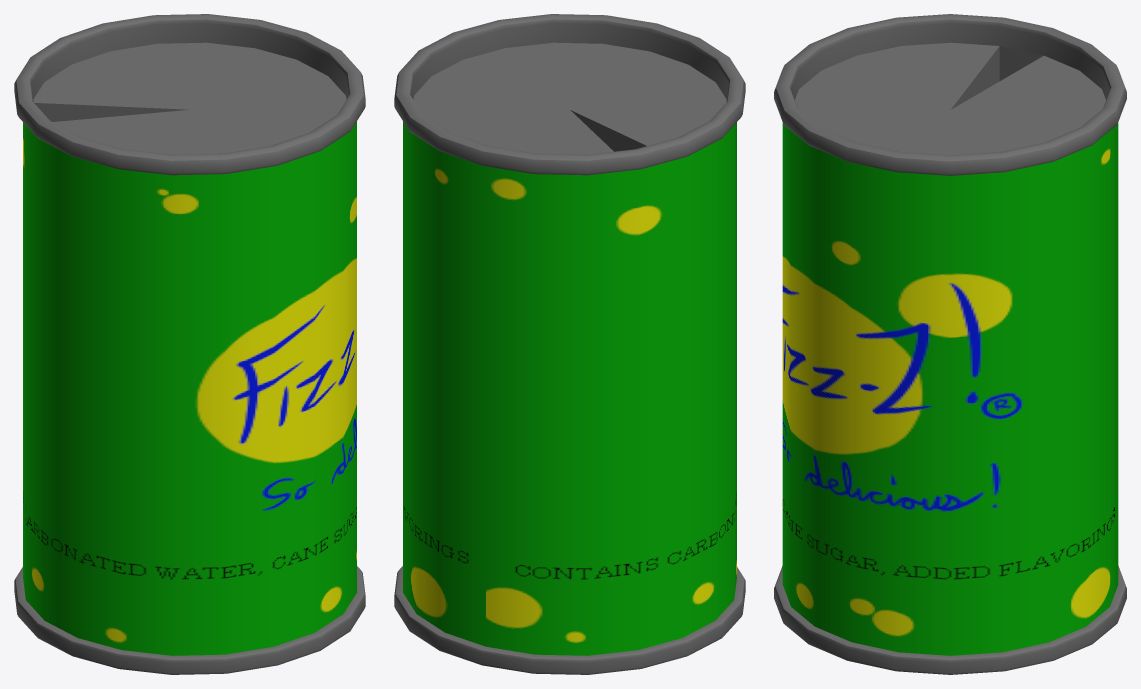
Rendered from asset_can_clean.fbx.
3 views of the same model, side by side, from view 1: azimuth 30°, elevation 25°; view 2: azimuth 150°, elevation 25°; view 3: azimuth 270°, elevation 25° (orthographic).
Visible parts, largest first — view 1: pCylinder3; view 2: pCylinder3; view 3: pCylinder3.
Boxes of the visible parts, x1,y1,x2,y2 form: pCylinder3: (14, 14, 365, 674); pCylinder3: (394, 14, 745, 674); pCylinder3: (774, 14, 1126, 674).
Size of the model in its own units: 2 by 3.23 by 2.
